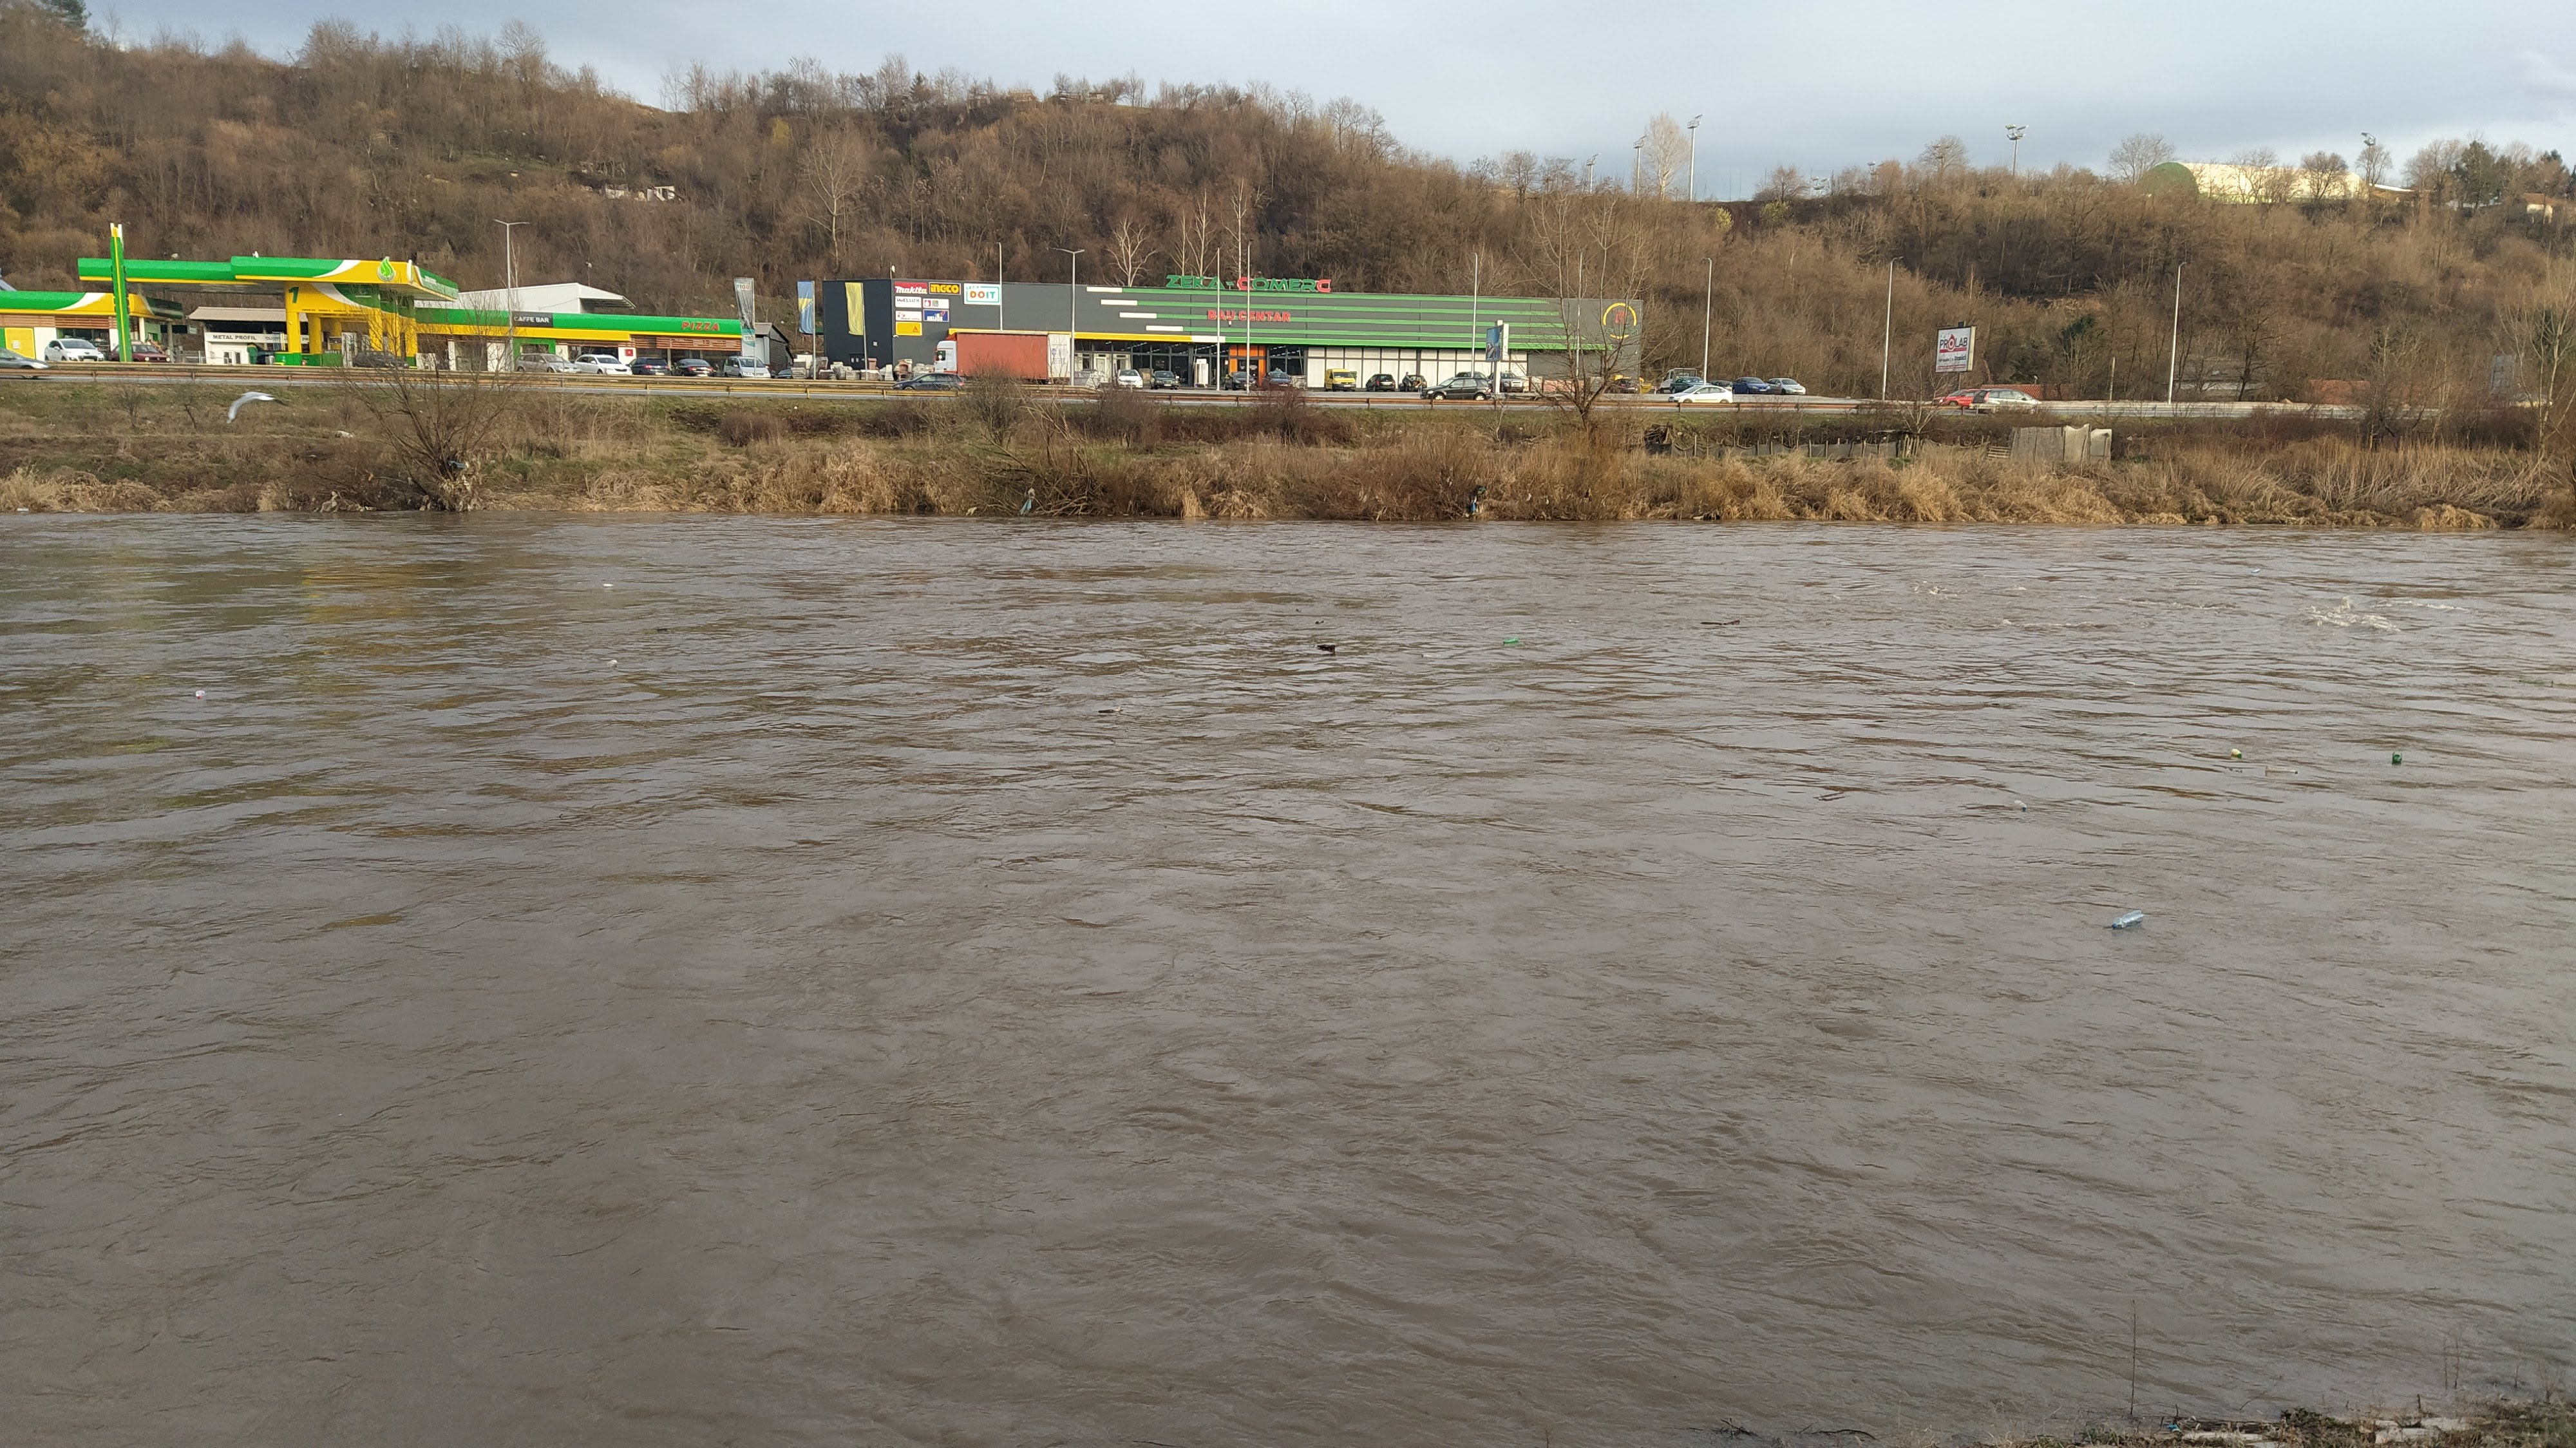Plastic Bottle: (2112, 910, 2143, 928), (2265, 765, 2296, 774), (2523, 676, 2553, 685), (1316, 644, 1336, 651), (2013, 800, 2026, 811), (2392, 751, 2403, 763), (1502, 637, 1518, 644), (2231, 747, 2242, 758), (1421, 653, 1440, 659), (1723, 620, 1741, 625), (607, 660, 617, 667), (1099, 710, 1118, 713), (195, 689, 203, 696), (1702, 621, 1720, 625), (2250, 568, 2259, 574), (2125, 680, 2134, 685), (16, 508, 28, 512), (603, 582, 612, 586), (658, 627, 665, 630)
